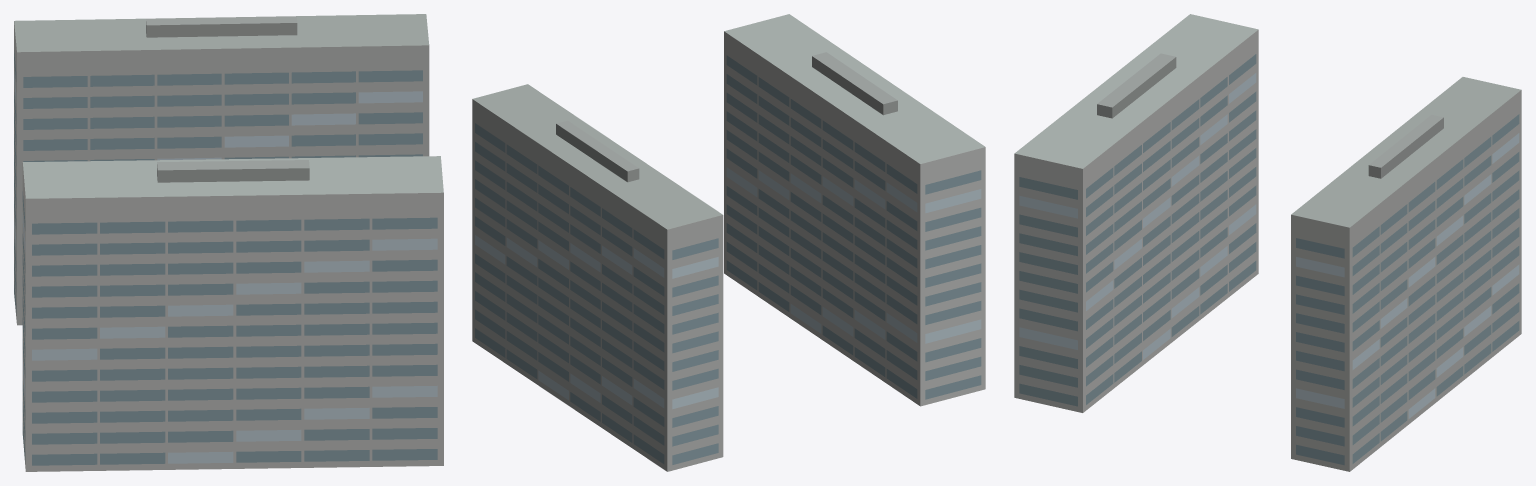
The model's file is apt-a12201101.glb.
3 renders of one model, left to right at view 1: azimuth 30°, elevation 25°; view 2: azimuth 150°, elevation 25°; view 3: azimuth 270°, elevation 25°, orthographic. The views are drawn at different scales.
Visible parts, largest first — view 1: apt-a12201101; view 2: apt-a12201101; view 3: apt-a12201101.
Boxes of the visible parts, <box> form: apt-a12201101: <box>14,14,443,471</box>; apt-a12201101: <box>472,14,985,471</box>; apt-a12201101: <box>1014,14,1521,471</box>.
Size of the model in its own units: 74.41 by 41.43 by 74.62.
